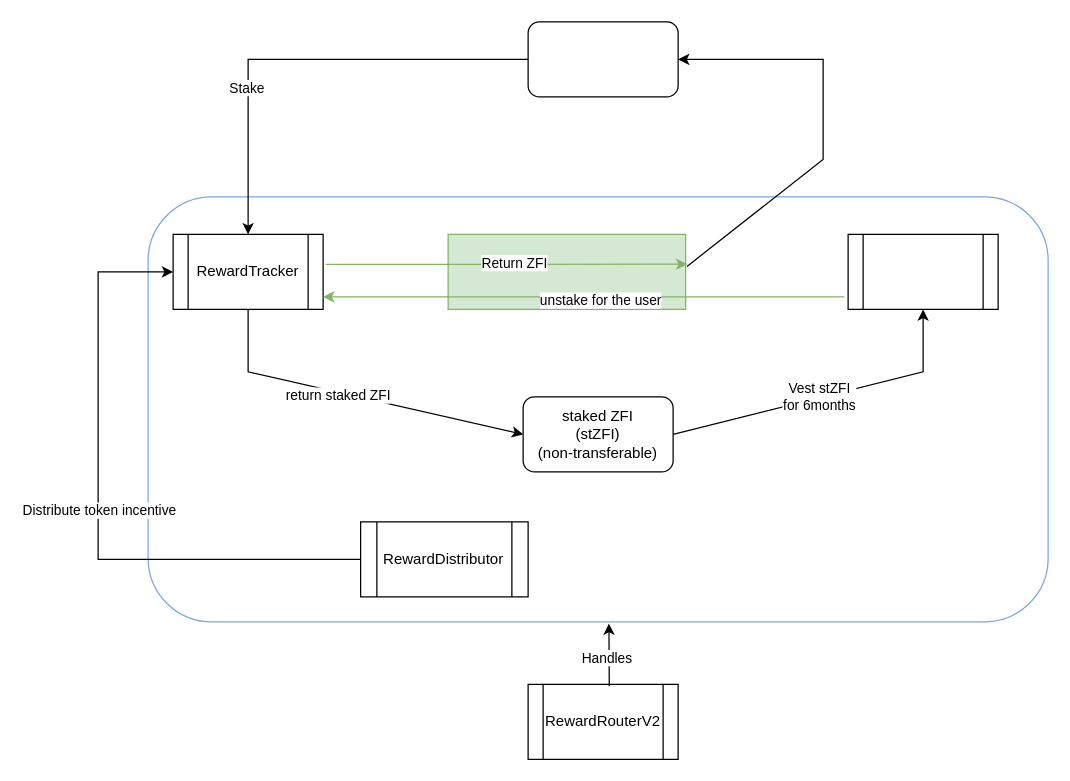
This 1070x781 diagram has some shape labels left out. Here are the shapes that lost their labels. From the top down, the box of each, then its label:
(527, 21, 678, 97): ZFI Token (transferable)
(847, 233, 998, 309): Vester
